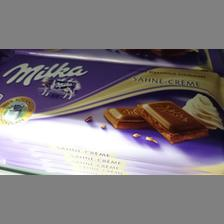Schokolade: (0, 52, 224, 168)
